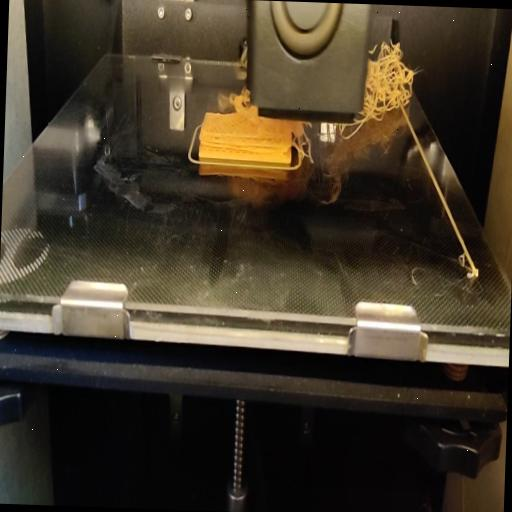spaghetti: (364, 36, 414, 130), (342, 119, 360, 141)
